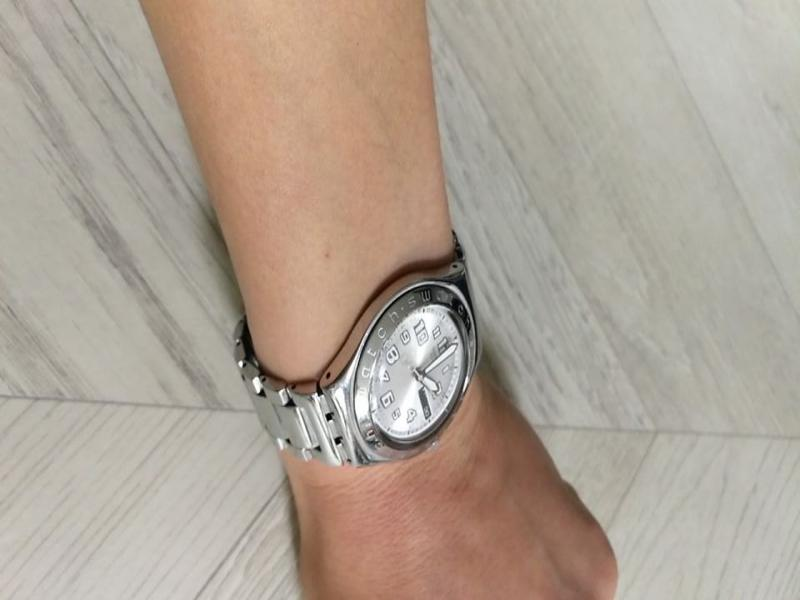watch: (224, 220, 481, 467)
